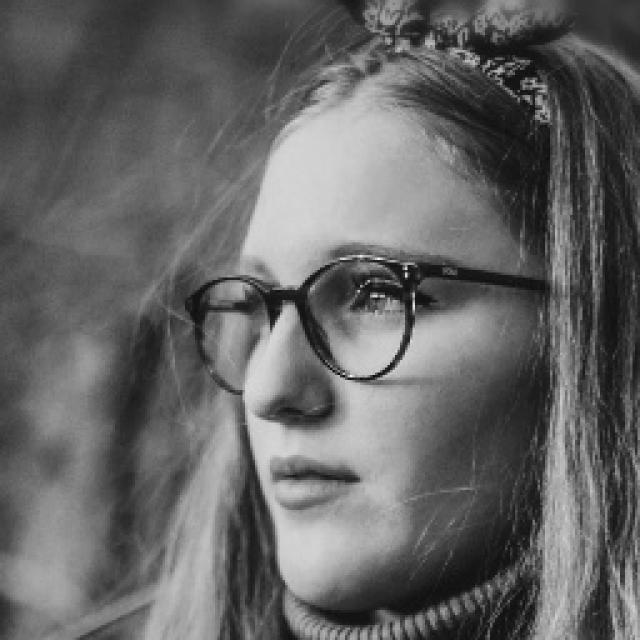glasses: (164, 242, 566, 392)
